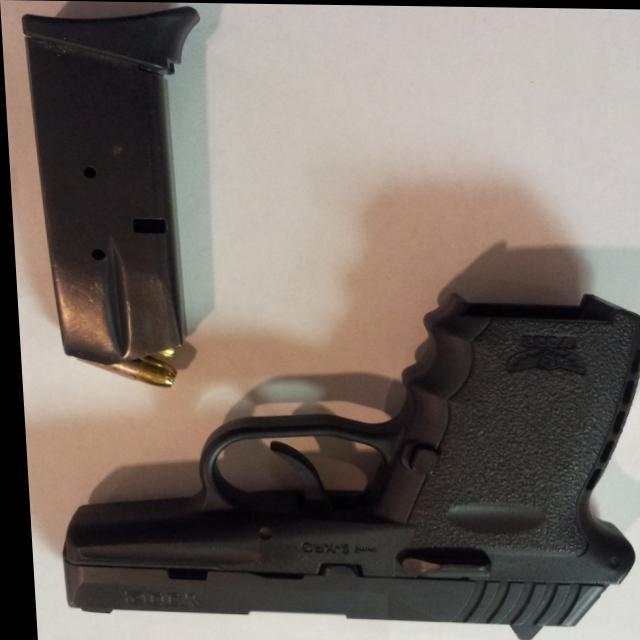handgun: (43, 275, 640, 640)
